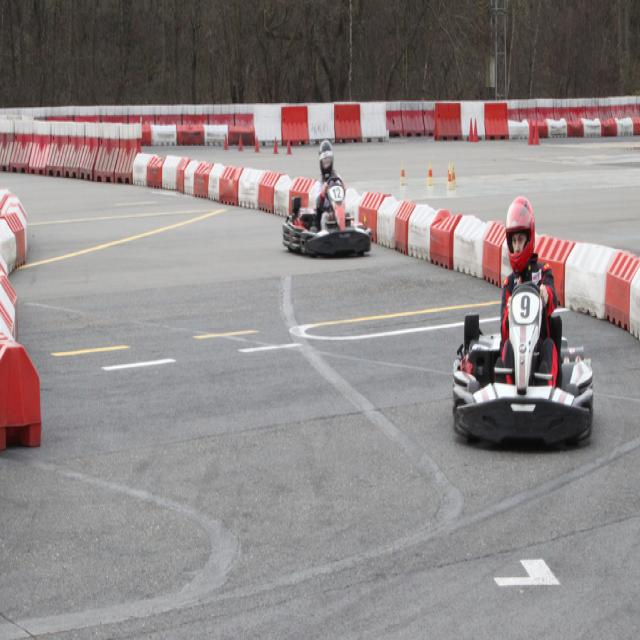car: (449, 267, 581, 433), (280, 170, 374, 250)
